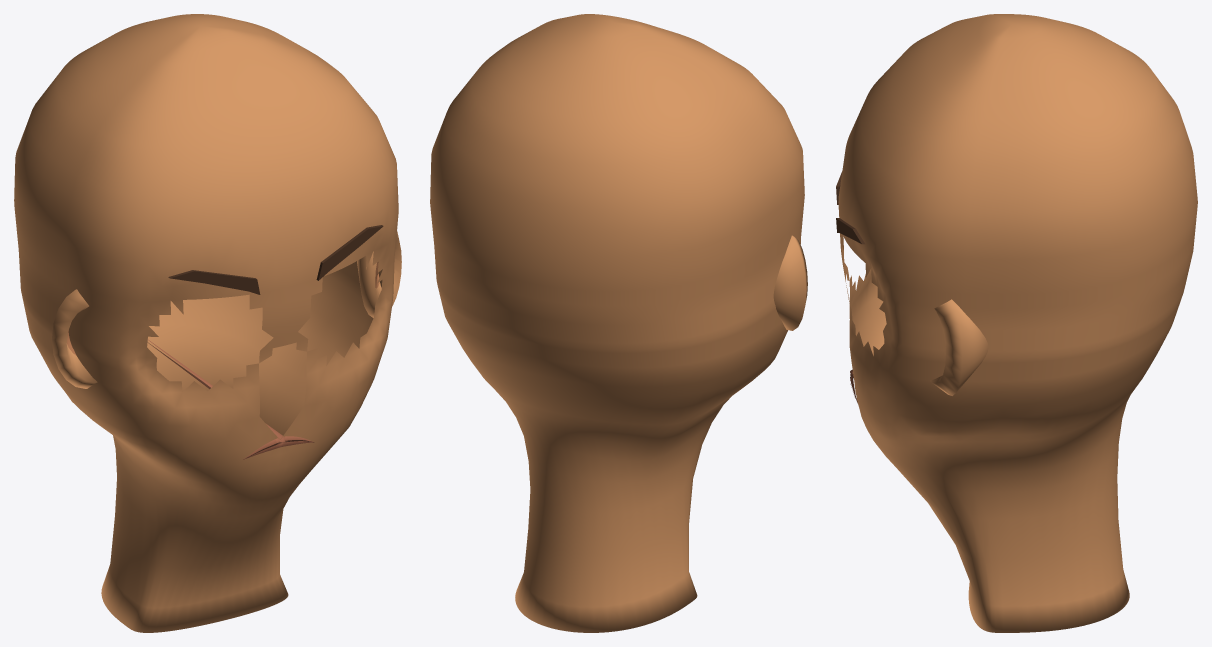
The model's file is base-feminina-05.glb.
3 renders of one model, left to right at view 1: azimuth 30°, elevation 25°; view 2: azimuth 150°, elevation 25°; view 3: azimuth 270°, elevation 25°, orthographic. The views are drawn at different scales.
Parts seen in each view (by area): view 1: RCL_Base_Feminina_05, RCL_Orelha_base-f-05_-1, RCL_Orelha_base-f-05_1, RCL_Sobrancelha_base-f-05_-1, RCL_Sobrancelha_base-f-05_1, RCL_Labios_base-f-05; view 2: RCL_Base_Feminina_05, RCL_Orelha_base-f-05_-1; view 3: RCL_Base_Feminina_05, RCL_Orelha_base-f-05_1.
Boxes of the visible parts, left/top/right/bottom form: RCL_Base_Feminina_05: left=14, top=14, right=398, bottom=632; RCL_Orelha_base-f-05_-1: left=52, top=289, right=97, bottom=388; RCL_Orelha_base-f-05_1: left=357, top=231, right=401, bottom=317; RCL_Sobrancelha_base-f-05_-1: left=168, top=270, right=260, bottom=294; RCL_Sobrancelha_base-f-05_1: left=316, top=225, right=383, bottom=280; RCL_Labios_base-f-05: left=147, top=339, right=313, bottom=459; RCL_Base_Feminina_05: left=430, top=14, right=804, bottom=632; RCL_Orelha_base-f-05_-1: left=773, top=235, right=807, bottom=330; RCL_Base_Feminina_05: left=838, top=14, right=1197, bottom=632; RCL_Orelha_base-f-05_1: left=930, top=299, right=988, bottom=395.
Size of the model in its own units: 0.192 by 0.305 by 0.1752.
